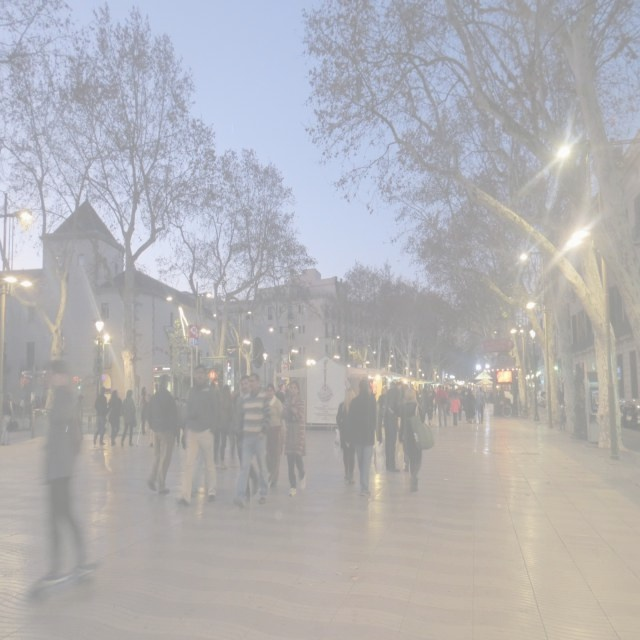pessoa: (36, 356, 92, 582), (178, 362, 220, 507), (232, 371, 270, 509), (144, 372, 179, 496), (346, 378, 379, 498), (233, 374, 260, 503), (280, 378, 308, 498), (179, 384, 203, 496), (263, 383, 284, 488), (402, 401, 426, 492), (336, 386, 358, 485), (382, 381, 403, 474), (218, 384, 238, 470), (402, 387, 420, 474), (119, 388, 138, 448), (92, 385, 110, 448), (106, 388, 124, 448), (230, 382, 243, 464), (0, 390, 19, 446), (362, 384, 378, 446), (208, 382, 220, 464), (18, 394, 44, 431), (398, 382, 410, 444), (435, 384, 449, 428), (138, 386, 150, 436), (462, 388, 477, 424), (180, 397, 190, 450), (421, 383, 433, 427), (449, 392, 462, 428), (173, 396, 182, 446), (377, 388, 387, 428), (76, 394, 84, 442), (476, 386, 486, 424), (410, 387, 420, 419), (284, 382, 293, 417), (555, 384, 566, 412), (426, 392, 434, 426), (380, 384, 389, 414), (457, 389, 464, 422), (444, 386, 450, 416), (386, 380, 394, 397), (486, 388, 494, 405), (416, 386, 422, 408), (434, 384, 438, 412), (144, 393, 152, 404), (275, 384, 282, 396), (430, 386, 436, 399), (154, 382, 160, 395), (280, 384, 286, 394), (260, 384, 266, 393), (448, 387, 458, 392), (232, 390, 236, 402), (462, 386, 466, 394), (482, 388, 486, 396), (442, 385, 444, 390), (456, 388, 461, 390)
